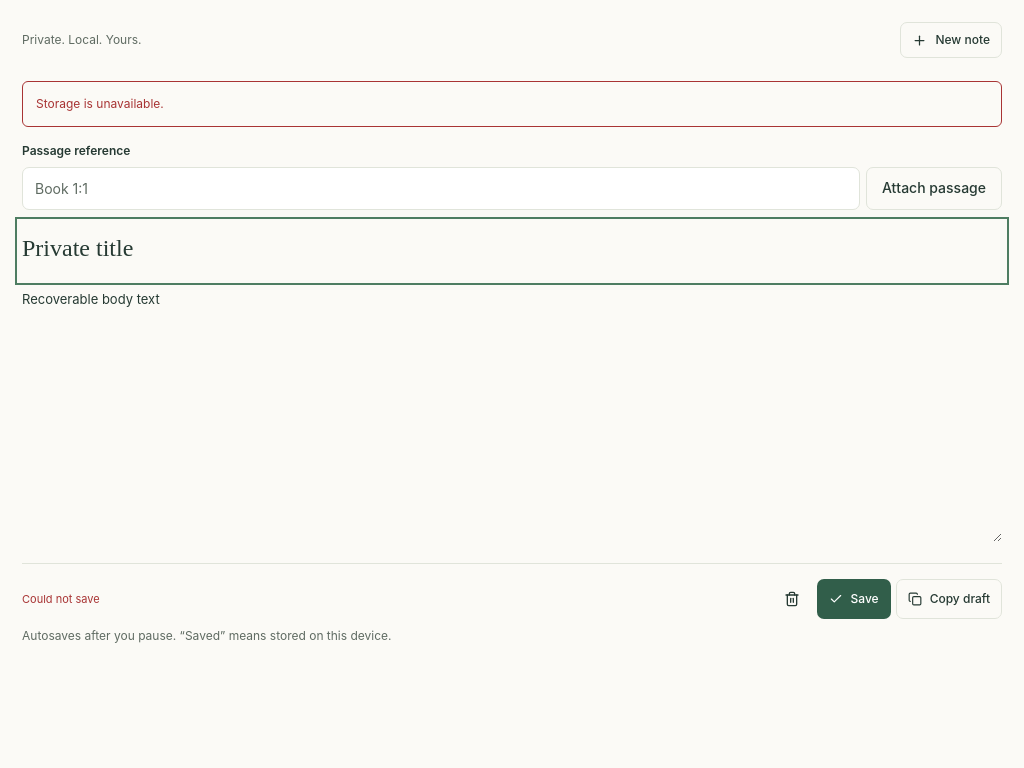
Scenario: note editor size feedback › keeps a failed-clipboard copy selectable with its error reason
The width and height of the screenshot is (1024, 768).
Click the button "Copy draft" at (949, 600), box left=896, top=580, right=1002, bottom=620
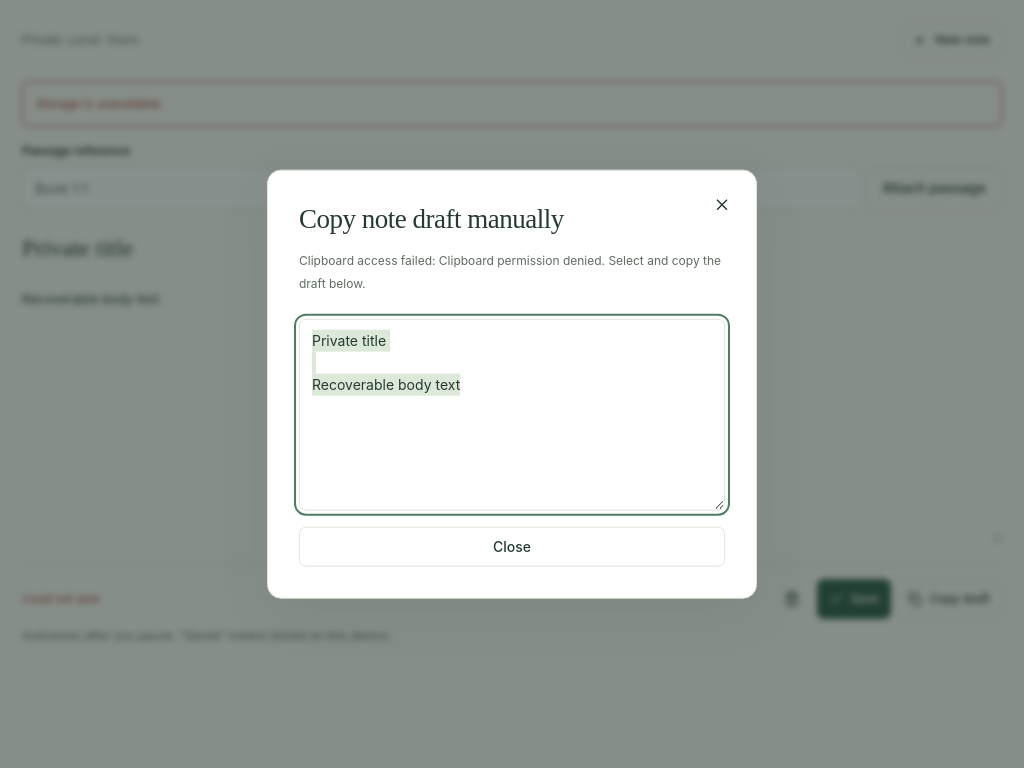
Now the text "Clipboard permission denied" is shown, box left=299, top=253, right=721, bottom=291
